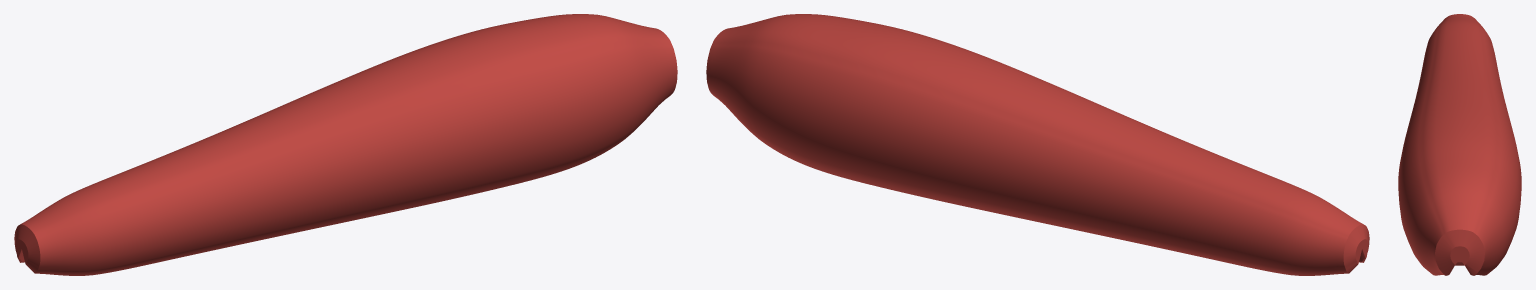
The model's file is chopper_2_lod1.glb.
3 views of the same model, side by side, from view 1: azimuth 30°, elevation 25°; view 2: azimuth 150°, elevation 25°; view 3: azimuth 270°, elevation 25° (orthographic). The views are drawn at different scales.
Visible parts, largest first — view 1: chopper_2_lod1; view 2: chopper_2_lod1; view 3: chopper_2_lod1.
Boxes of the visible parts, <box> form: chopper_2_lod1: <box>14,14,677,275</box>; chopper_2_lod1: <box>706,14,1369,275</box>; chopper_2_lod1: <box>1398,14,1521,275</box>.
Bounding box in the file's own units: 1.06 × 0.2031 × 0.2197.
